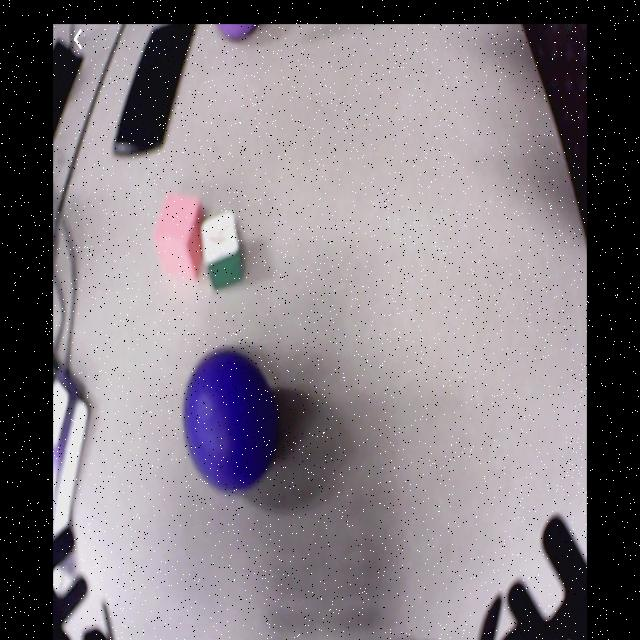ball: (183, 352, 275, 493), (215, 25, 258, 43)
